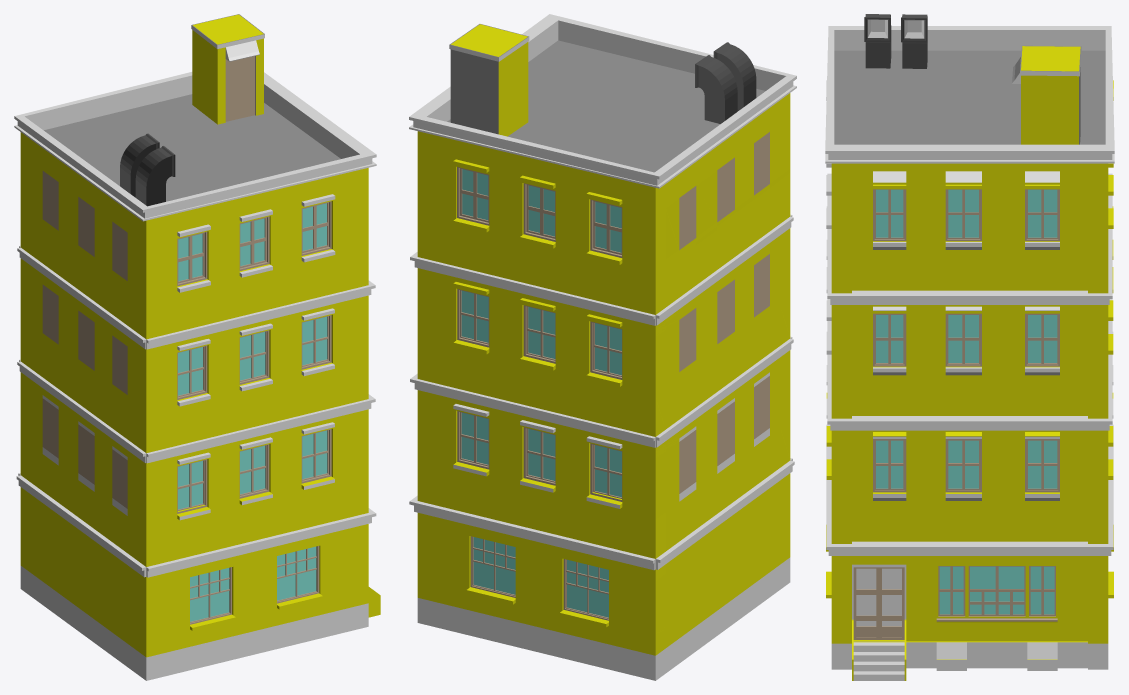
Rendered from building_05.fbx.
3 views of the same model, side by side, from view 1: azimuth 30°, elevation 25°; view 2: azimuth 150°, elevation 25°; view 3: azimuth 270°, elevation 25° (orthographic). The views are drawn at different scales.
Visible parts, largest first — view 1: Cube2; view 2: Cube2; view 3: Cube2.
Part boxes in pixels (bbox=[...]): Cube2: bbox=[14, 14, 380, 680]; Cube2: bbox=[409, 14, 796, 680]; Cube2: bbox=[825, 14, 1114, 680].
Bounding box in the file's own units: 7.23 × 14.88 × 6.62.
